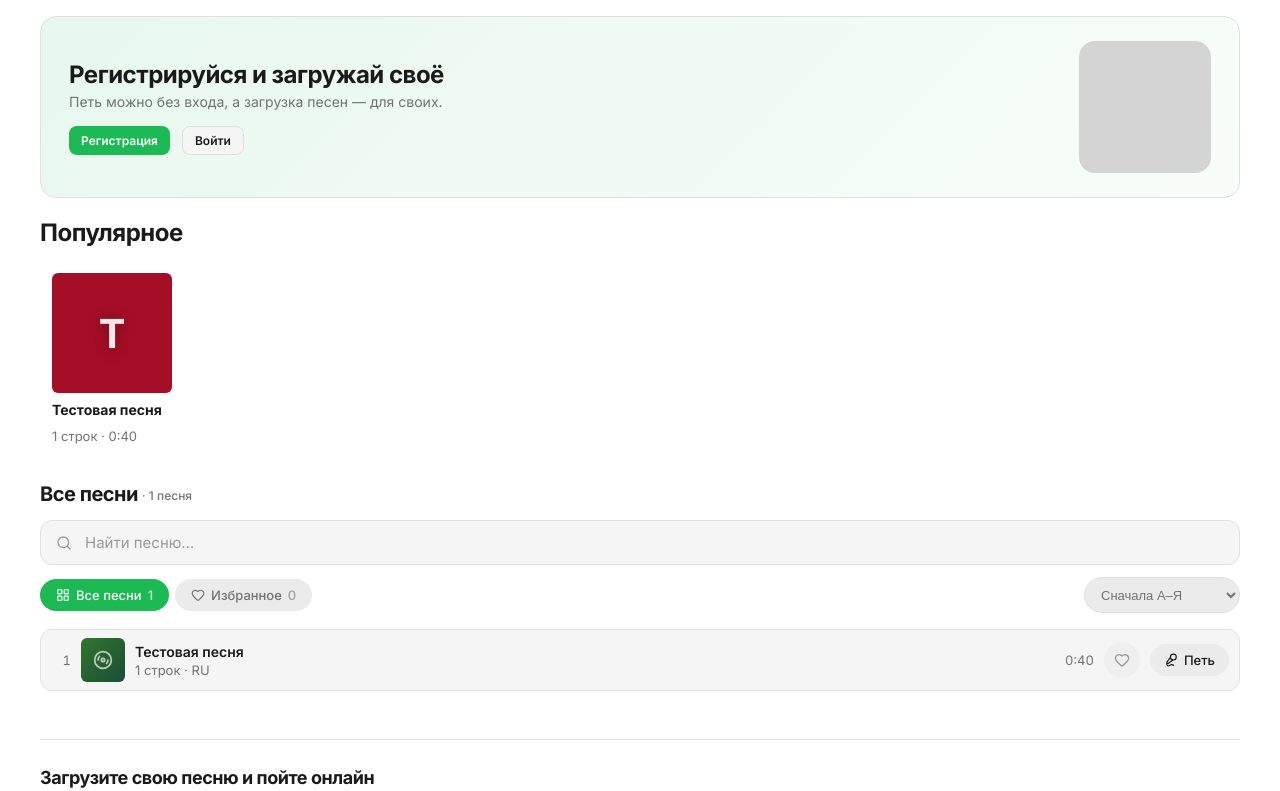
it: Catalog: шапка, табы, помощь › пустое избранное зовёт ко всем песням
Expected: the button "Петь" is shown, [1150,644,1229,676]
What coordinates should you click on to do the following:
click the tab "Избранное 0"
I would click on:
 (244, 595)
Its box is [175,579,312,611].
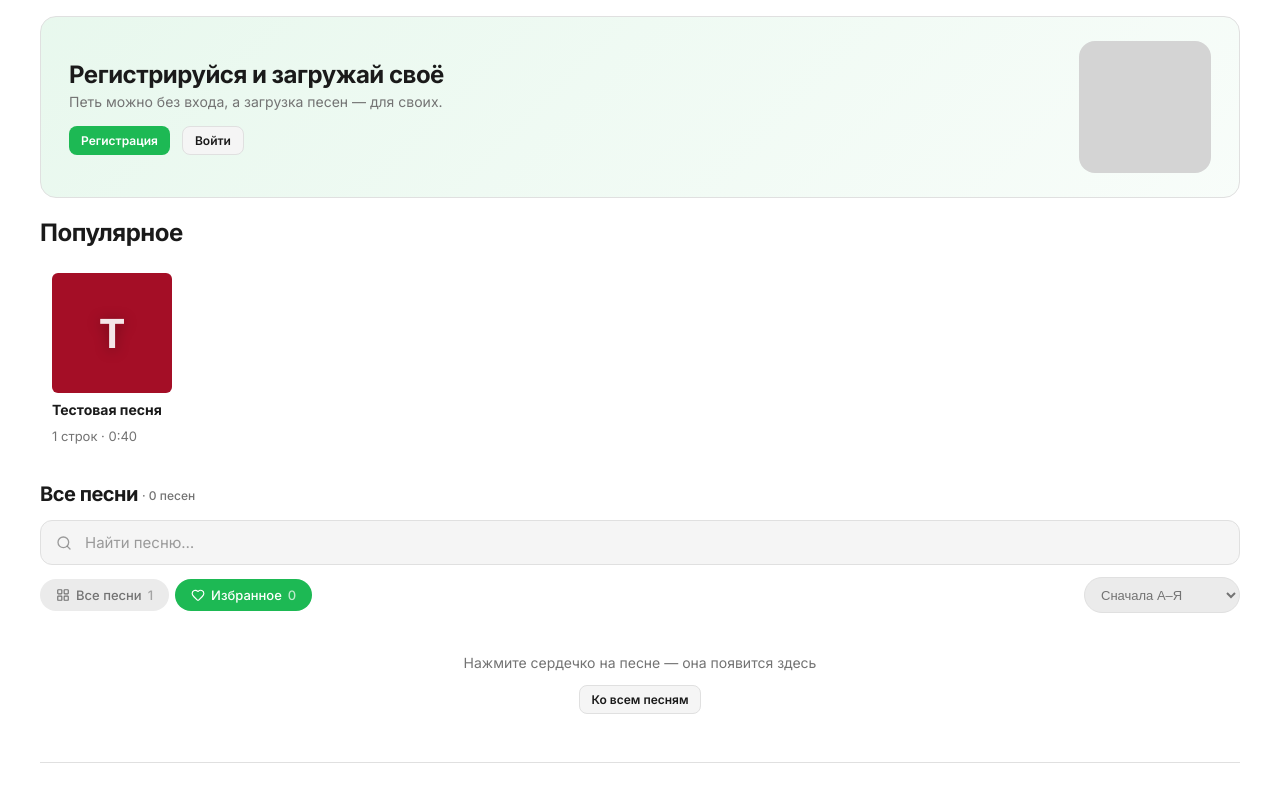
What coordinates should you click on to do the following:
click the button "Ко всем песням"
I would click on:
 (640, 700)
Its box is [578,685,701,714].
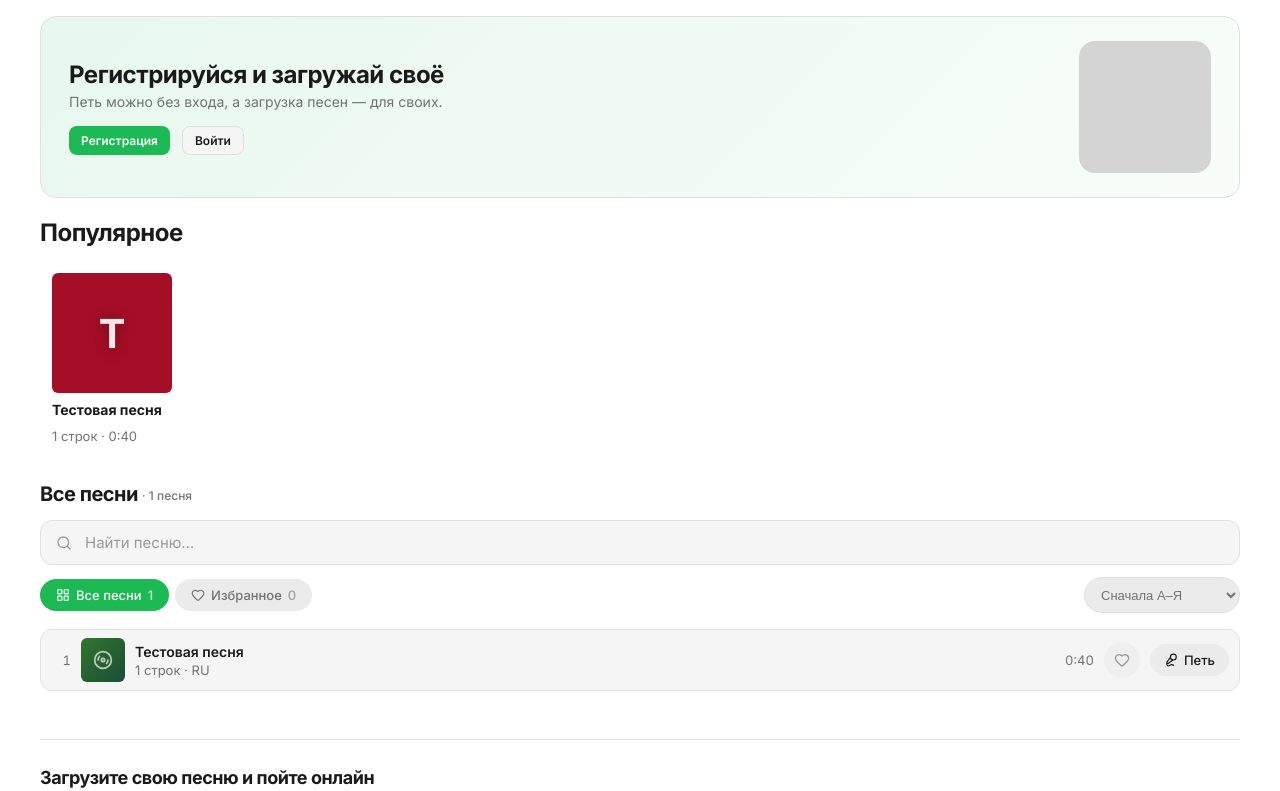
Expected: the text "Тестовая песня" is shown 2 times, [52,401,162,418]; [135,642,244,660]
Now the button "Петь" is shown, box [1150,644,1229,676]
